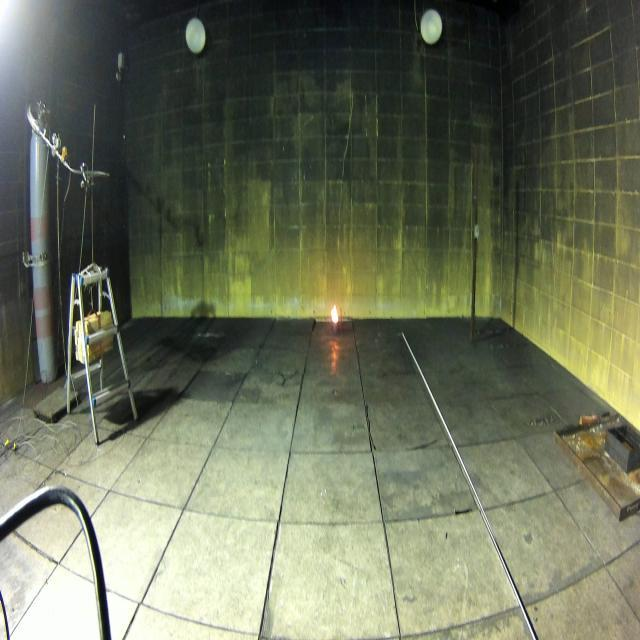Fire: (331, 300, 339, 324)
